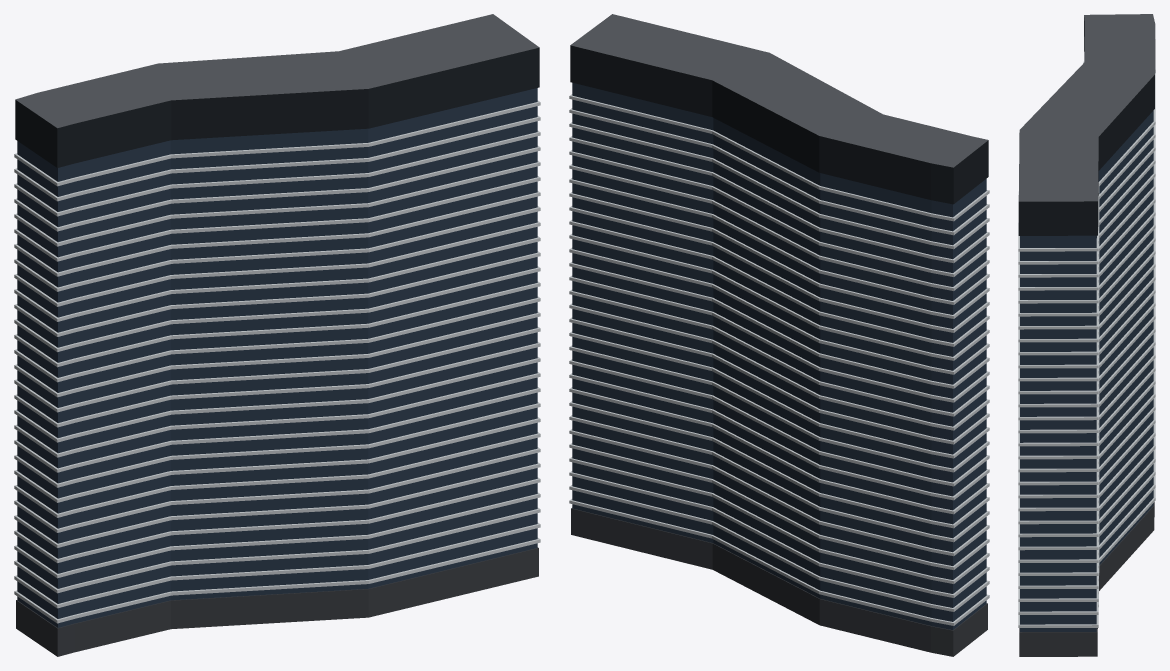
File: cosmo_chelsea.glb
3 views of the same model, side by side, from view 1: azimuth 30°, elevation 25°; view 2: azimuth 150°, elevation 25°; view 3: azimuth 270°, elevation 25° (orthographic). The views are drawn at different scales.
Parts seen in each view (by area): view 1: BentSlabTower; view 2: BentSlabTower; view 3: BentSlabTower.
Part boxes in pixels (x1,y1,x2,y2): BentSlabTower: (14, 14, 540, 656); BentSlabTower: (569, 14, 989, 656); BentSlabTower: (1018, 14, 1155, 656).
Bounding box in the file's own units: 165 × 186 × 50.9.
